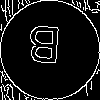B: (25, 25, 62, 74)
